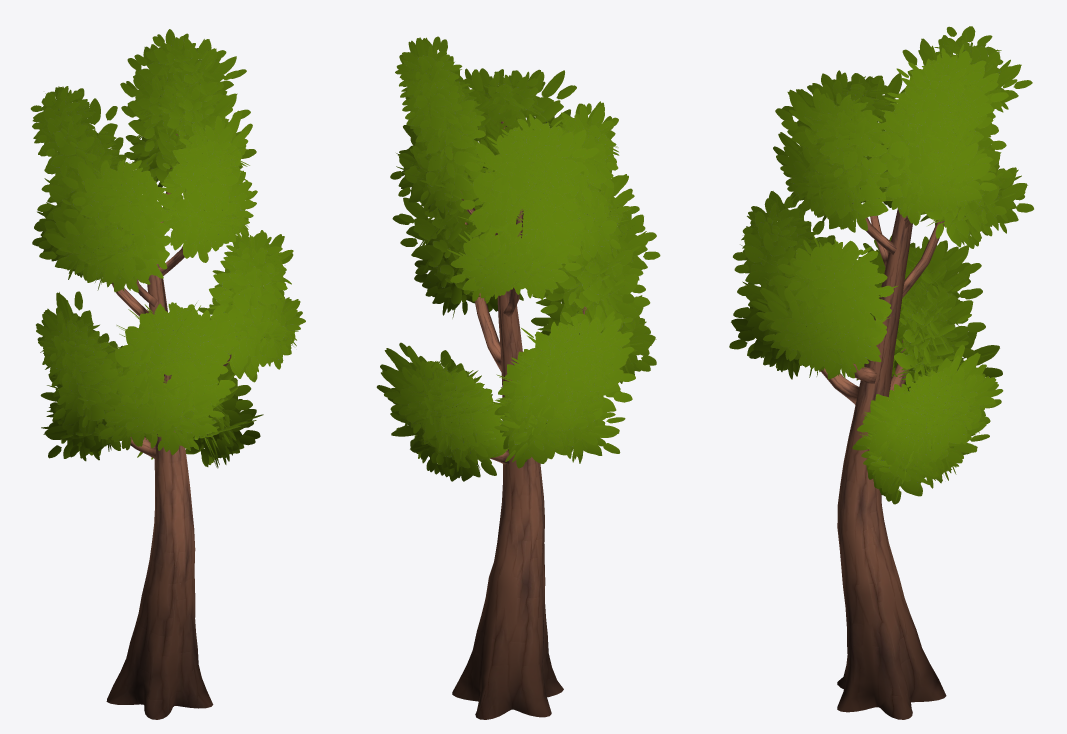
File: CommonTree_3.gltf
3 views of the same model, side by side, from view 1: azimuth 30°, elevation 25°; view 2: azimuth 150°, elevation 25°; view 3: azimuth 270°, elevation 25° (orthographic). The views are drawn at different scales.
Visible parts, largest first — view 1: CommonTree_3; view 2: CommonTree_3; view 3: CommonTree_3.
Boxes of the visible parts, bbox=[...] form: CommonTree_3: bbox=[30, 29, 305, 719]; CommonTree_3: bbox=[376, 36, 660, 719]; CommonTree_3: bbox=[729, 26, 1033, 719].
Size of the model in its own units: 4.06 by 9.43 by 4.24.
2 materials, 2 textured.
